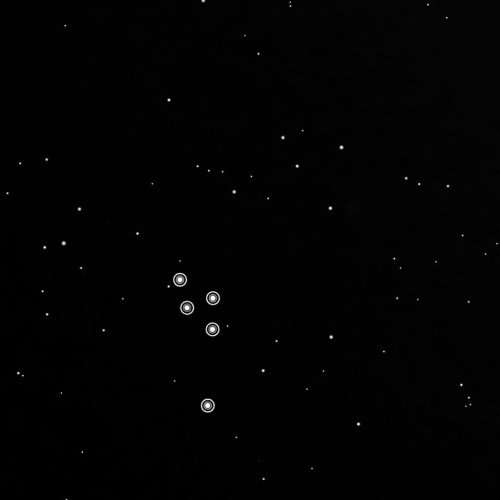delphinus: (168, 269, 228, 417)
